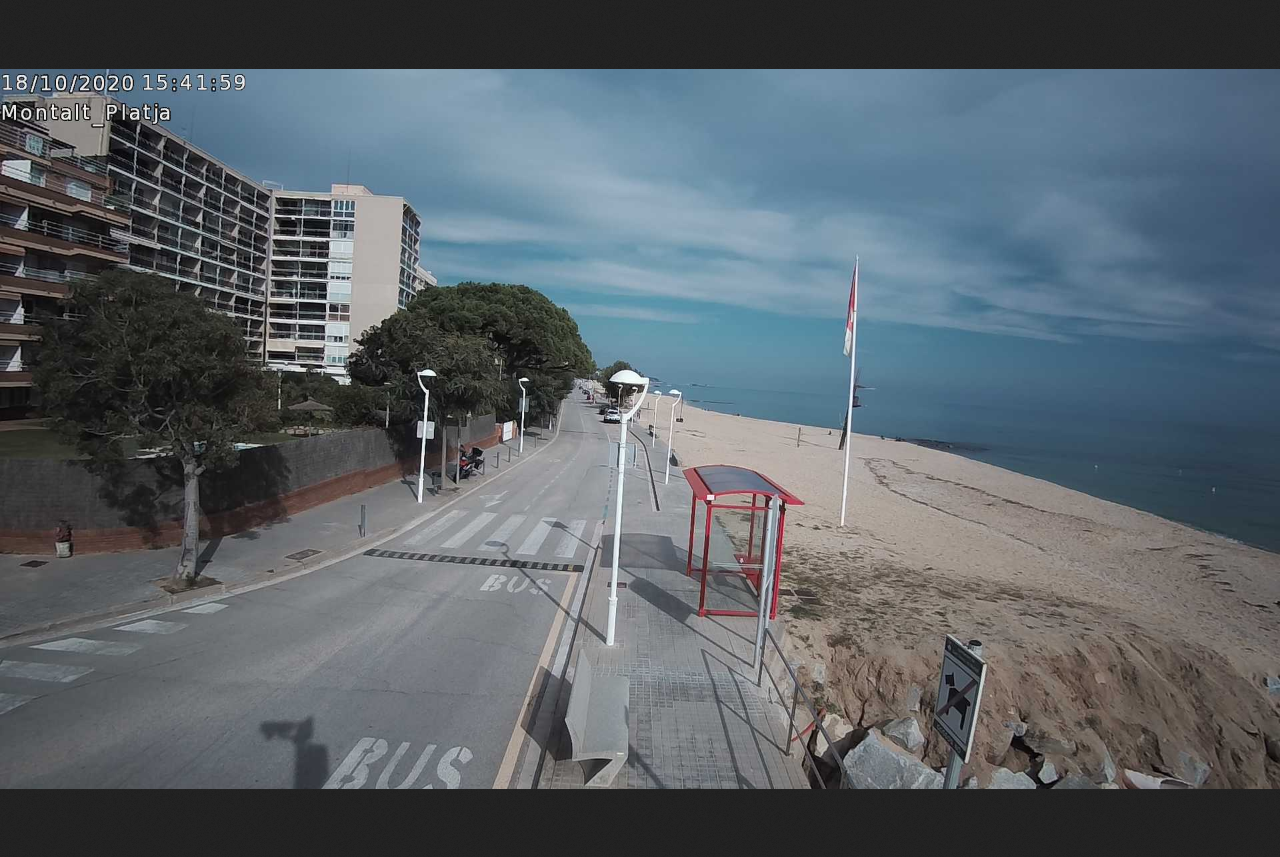no: (839, 264, 862, 356)
